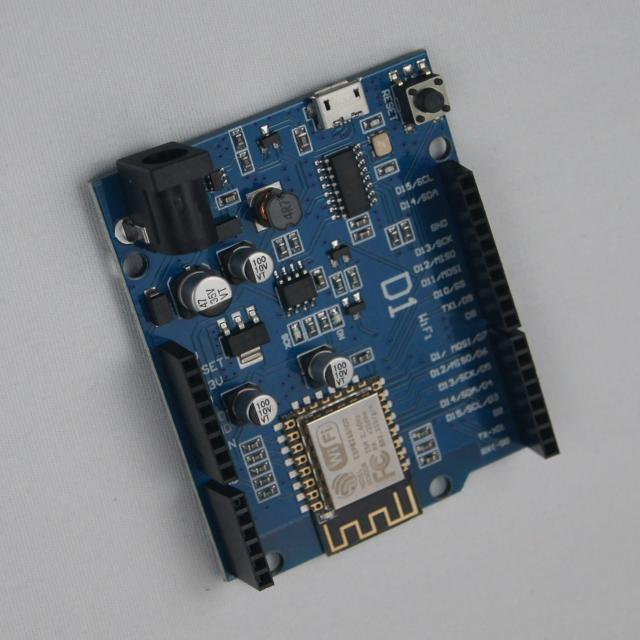Arduino Uno WiFi Shield: (93, 50, 559, 591)
